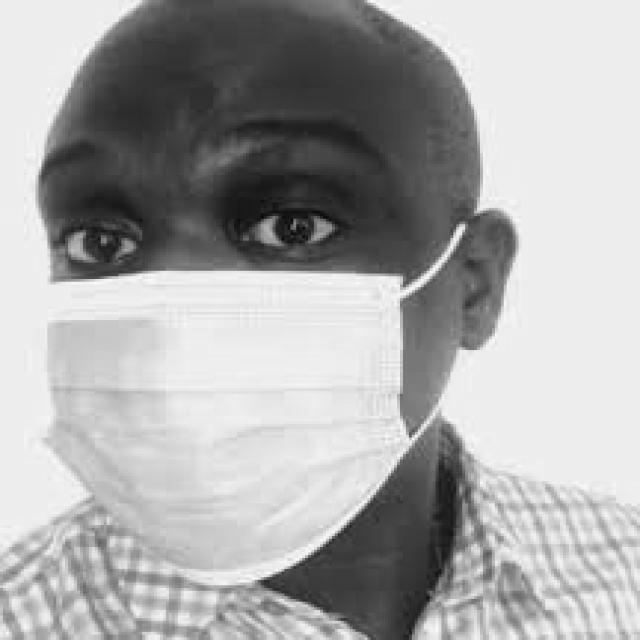fake: (39, 269, 411, 588)
real: (32, 35, 438, 589)
